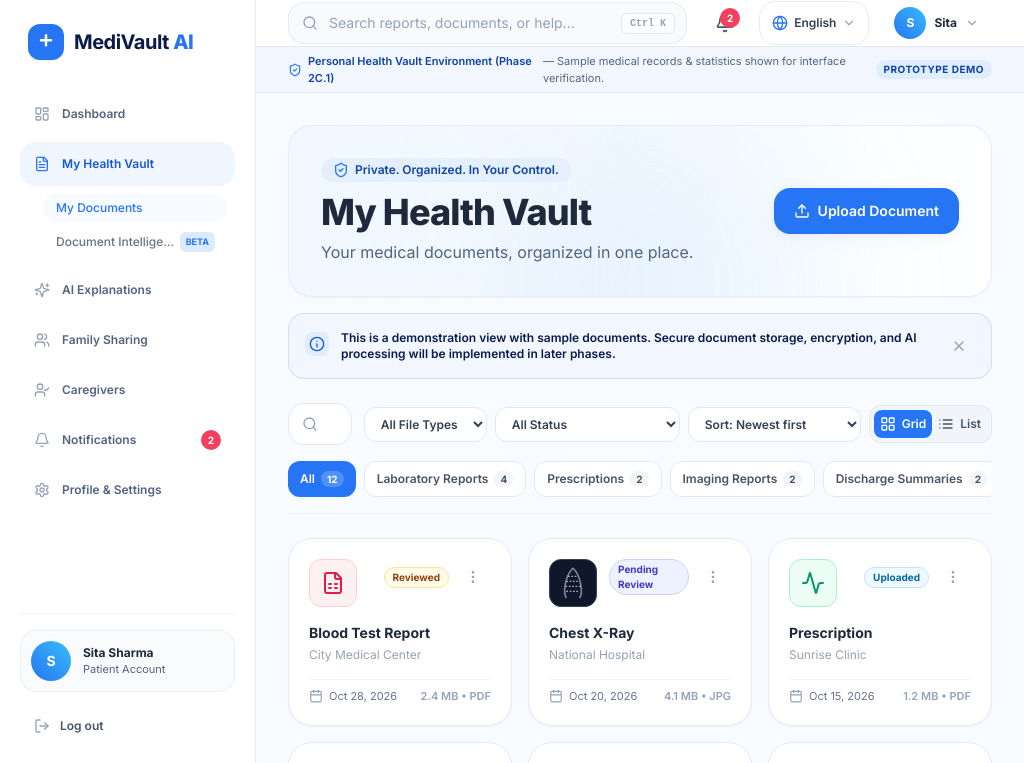
Test case: MediVault AI — Phase 2C.1 Personal Health Vault Frontend Suite › 9. opens Upload Modal and displays prototype validation notice
Click the button "Upload Document".
click(866, 211)  # box [774,188,959,234]
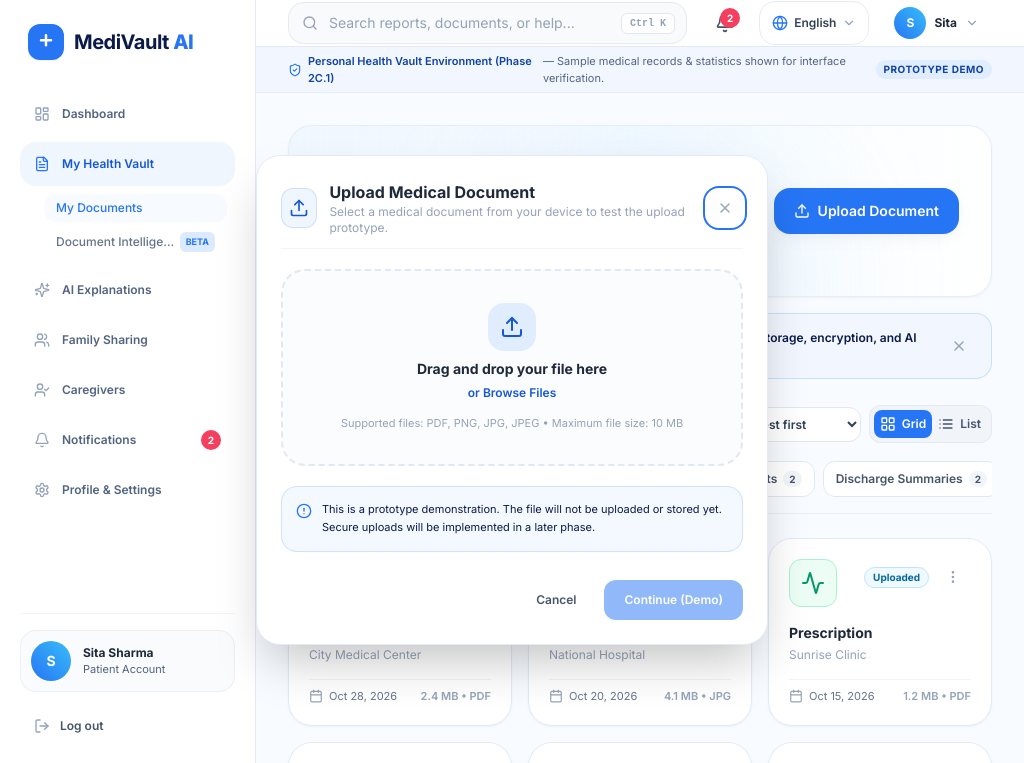
Check: the dialog is shown, box [256,155,768,645]
Check: the text "Drag and drop your file here" is shown, box [417,359,607,379]
Check: the text "Maximum file size: 10 MB" is shown, box [341,416,683,430]
